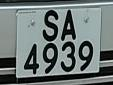3: (58, 41, 79, 74)
4: (21, 41, 41, 78)
9: (39, 41, 61, 76), (76, 39, 95, 73)
A: (60, 7, 78, 43)
S: (39, 7, 61, 44)
